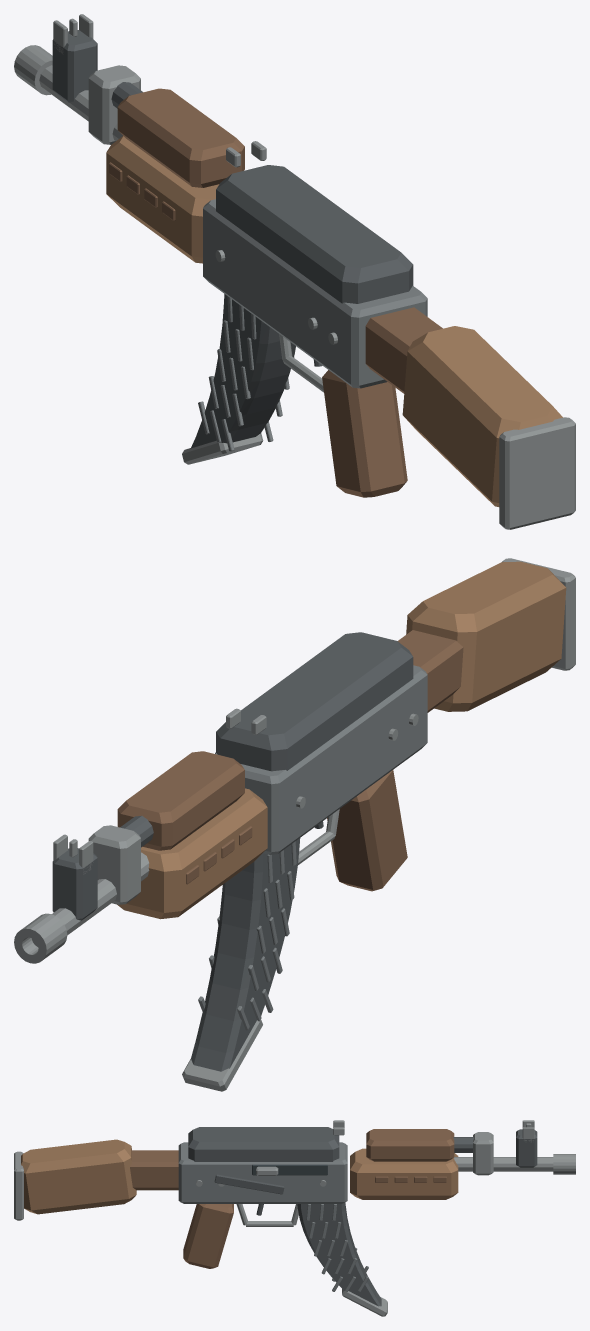
File: rifle.glb
3 renders of one model, top to bottom at view 1: azimuth 30°, elevation 25°; view 2: azimuth 150°, elevation 25°; view 3: azimuth 270°, elevation 25°, orthographic. The views are drawn at different scales.
Visible parts, largest first — view 1: world; view 2: world; view 3: world.
Part boxes in pixels (<box>): world: <box>14,14,575,529</box>; world: <box>14,558,575,1091</box>; world: <box>14,1120,575,1316</box>.
Size of the model in its own units: 0.1865 by 0.6417 by 1.73.
